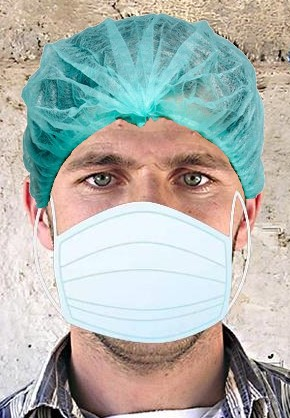with_mask_and_cap: (22, 16, 262, 340)
